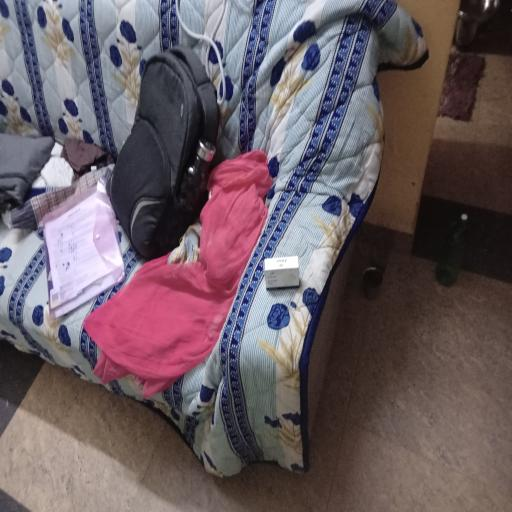Dove`1: (264, 255, 301, 292)
